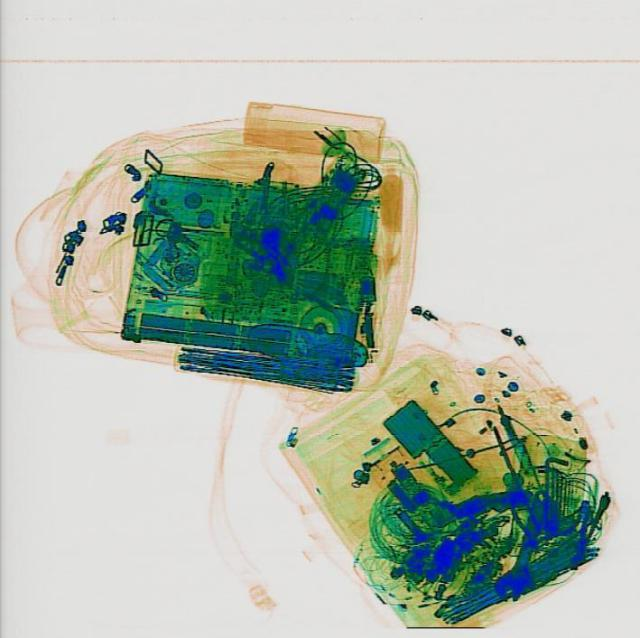Wrench: (488, 482, 562, 604)
